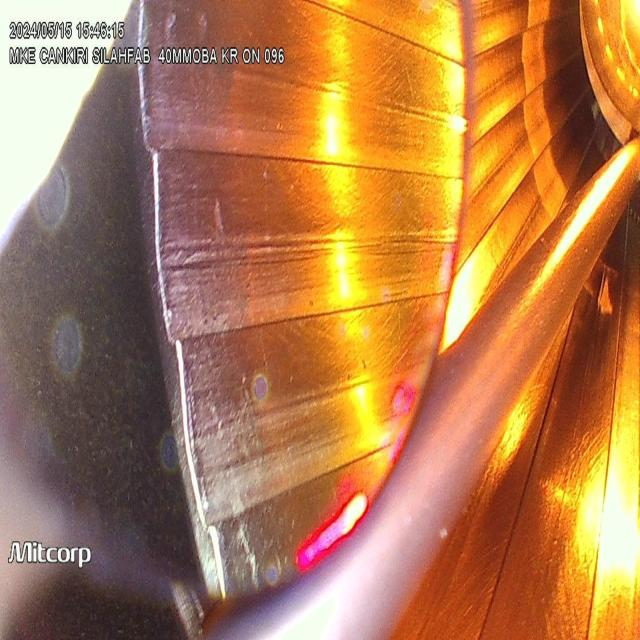hata_8.1: (155, 228, 465, 278)
